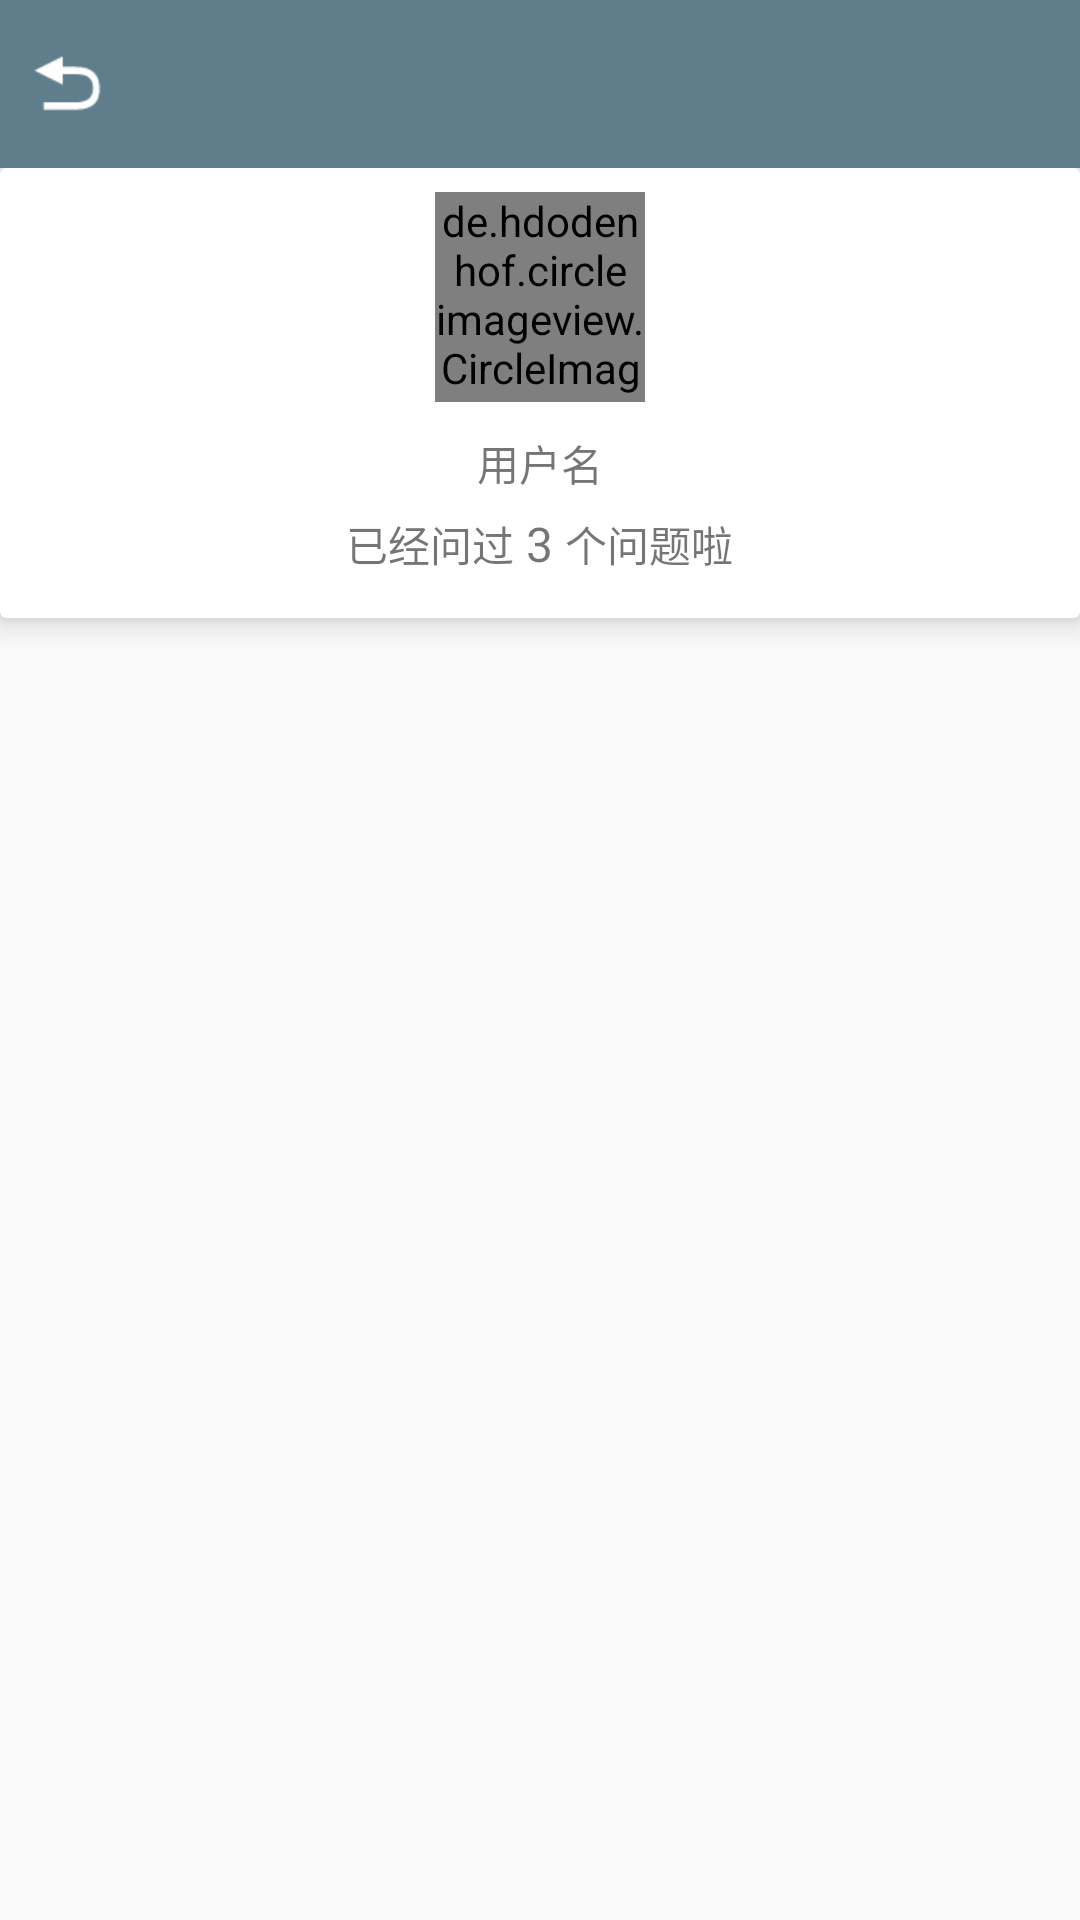

Icon click points for this 1080 x 1920 phone screenshot, format [x,y]:
back: [67,83]
